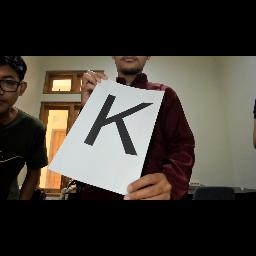k: (76, 84, 162, 168)
